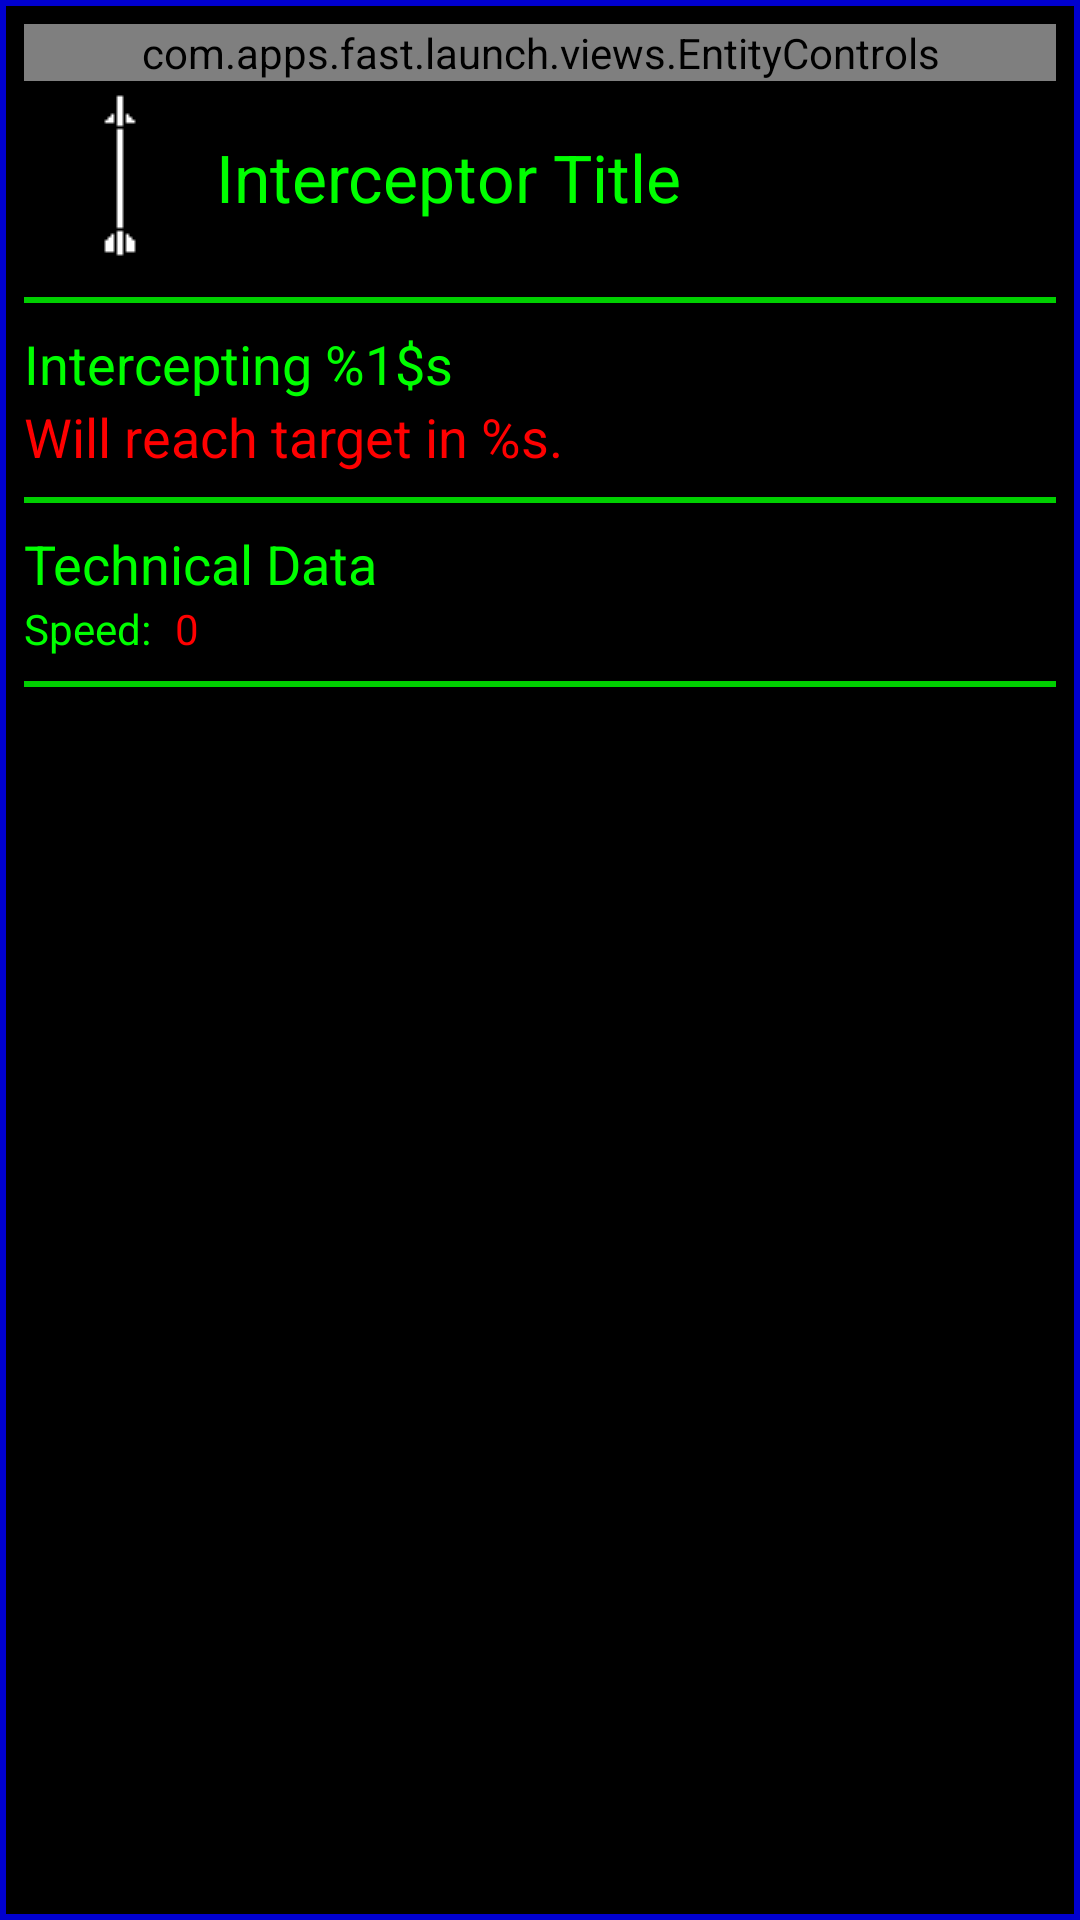

Locate icon controls on the screen. Image size 1080*1920, boxes as (x1, y1, x2, y2).
marker interceptor: (104, 95, 136, 256)
